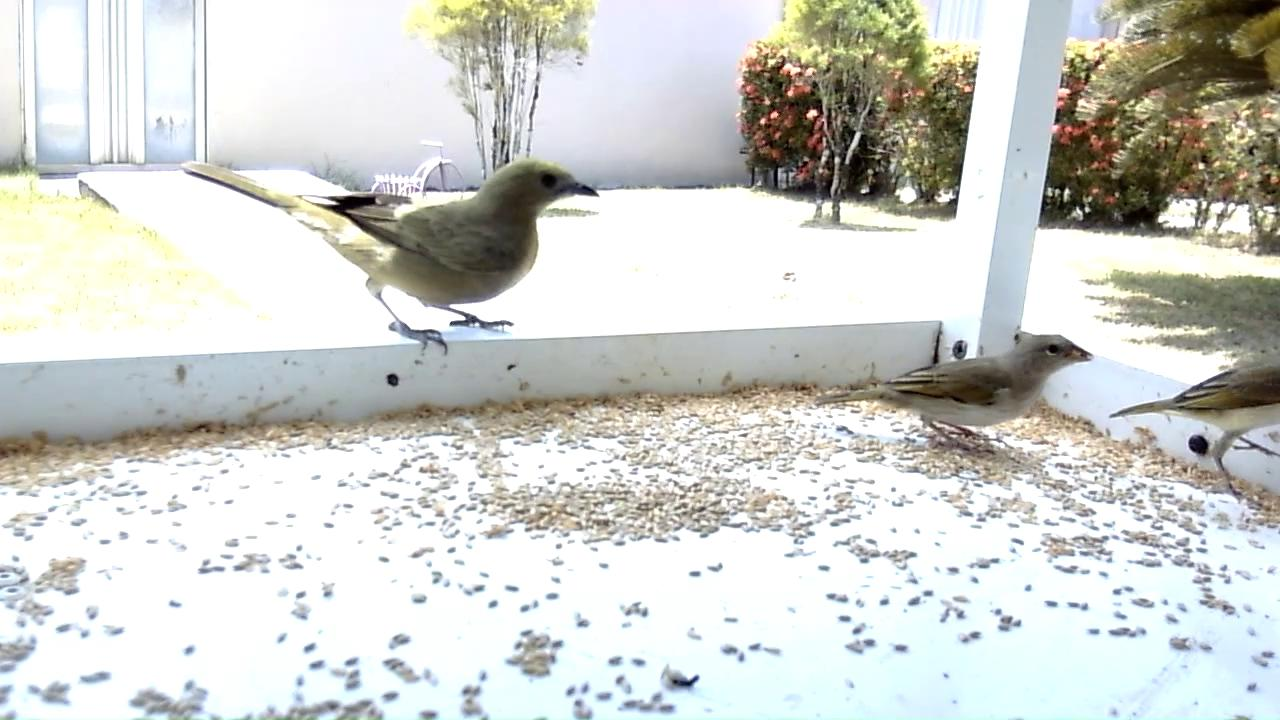canario_do_amazonas: (815, 332, 1097, 458), (1105, 359, 1280, 502)
sanhaco_do_coqueiro: (179, 156, 604, 362)
